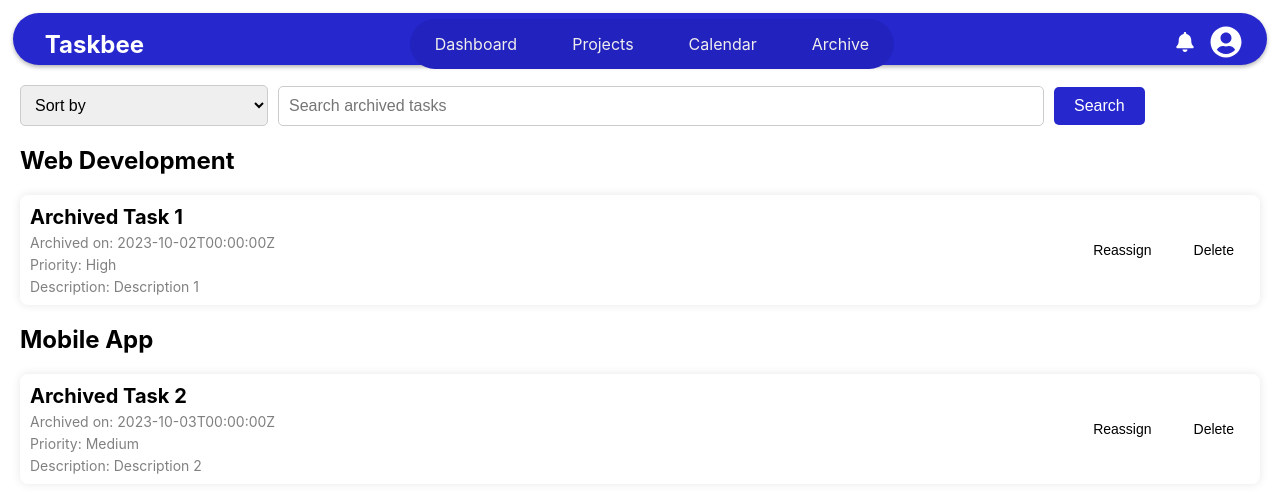
Test case: searches and filters archived tasks using SearchBar
Expected: the heading "Archived Task 1" is shown, [30,205,183,229]
Expected: the heading "Archived Task 2" is shown, [30,384,187,408]
Enter a search term in the SearchBar to filter tasks
Type "Task 1" into the field with placeholder "Search archived tasks" at (661, 106), box [278,86,1044,126]
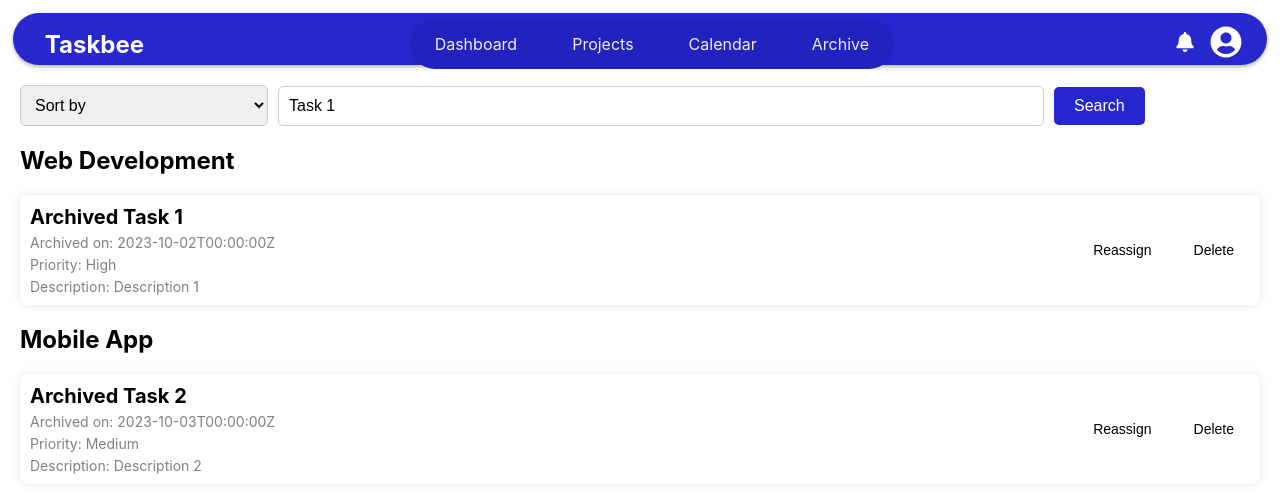
Click the search button
Click the button "Search" at (1099, 106), box [1054,87,1145,125]
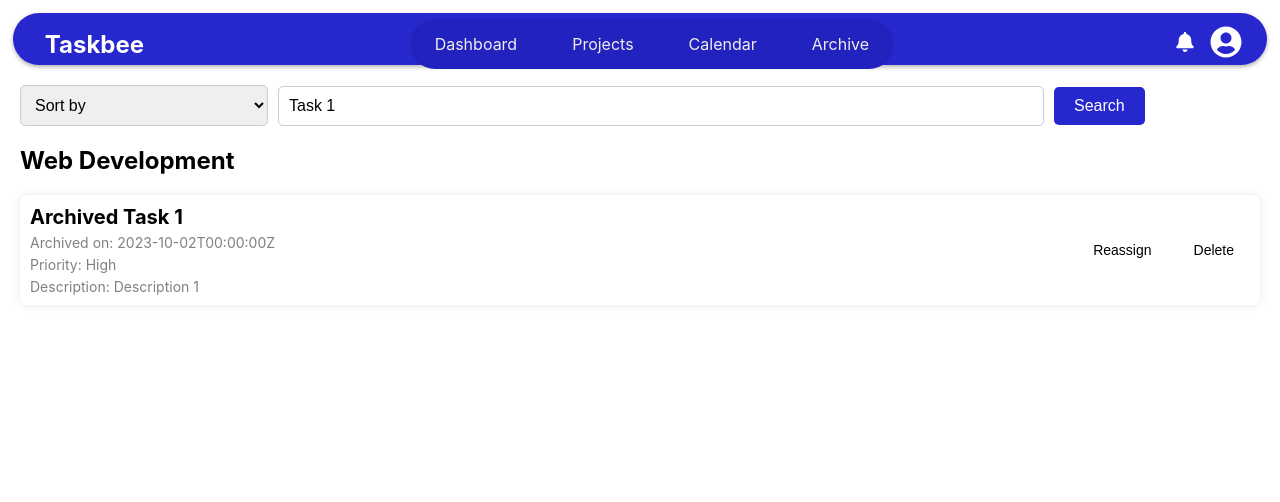
Expected: the heading "Archived Task 1" is shown, [30,205,183,229]
Expected: the heading "Archived Task 2" is gone
